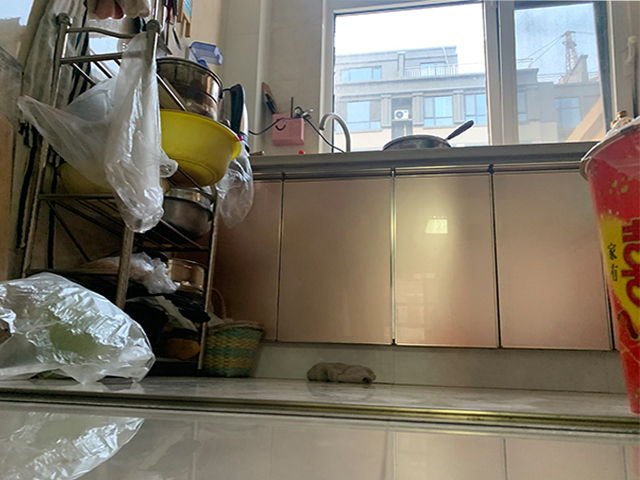cabinet: (221, 142, 608, 394)
trashcan: (578, 118, 640, 416)
